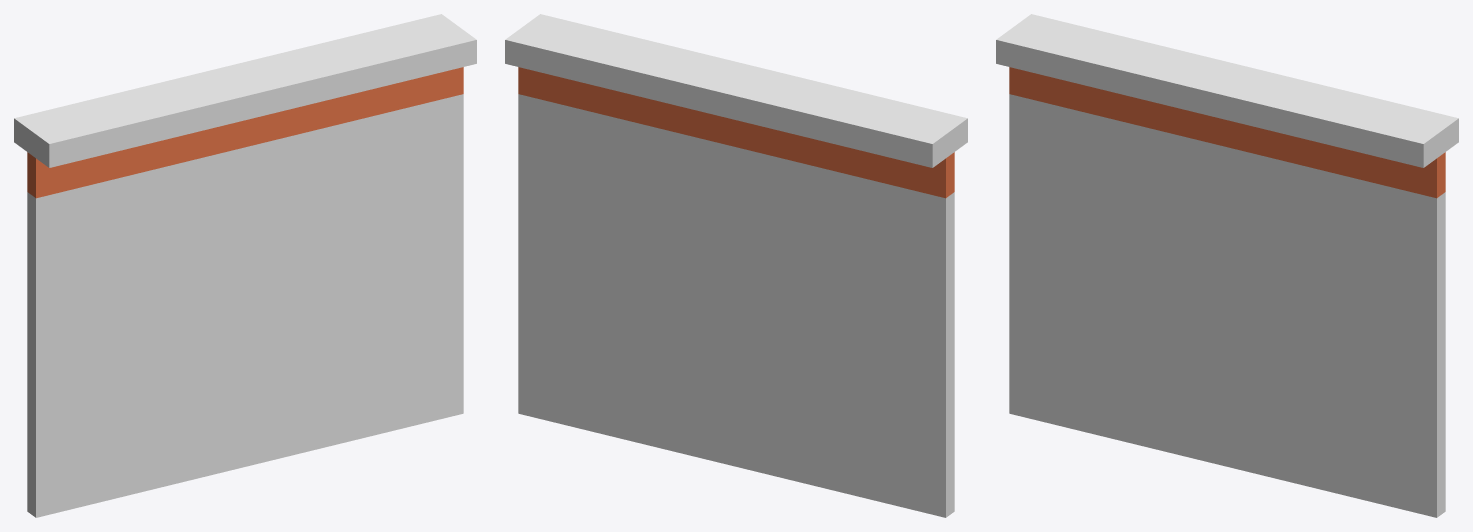
The model's file is penghubung_corridor_lantai_2_1_tembok.obj.
The picture shows the model from 3 angles, left to right: view 1: azimuth 30°, elevation 25°; view 2: azimuth 150°, elevation 25°; view 3: azimuth 330°, elevation 25°; orthographic projection.
Size of the model in its own units: 5.6 by 4.8 by 0.8.
1 material, 1 textured.
